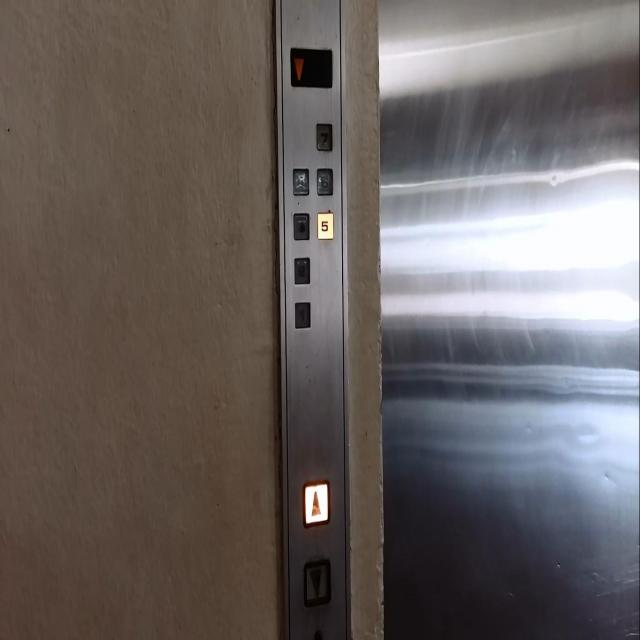1: (294, 300, 311, 329)
2: (292, 254, 310, 286)
5: (316, 210, 334, 241)
6: (315, 166, 333, 196)
7: (315, 120, 333, 152)
blur: (292, 166, 310, 196), (292, 211, 310, 241)
down: (303, 556, 331, 606)
led: (289, 46, 333, 88)
up: (302, 478, 330, 530)
